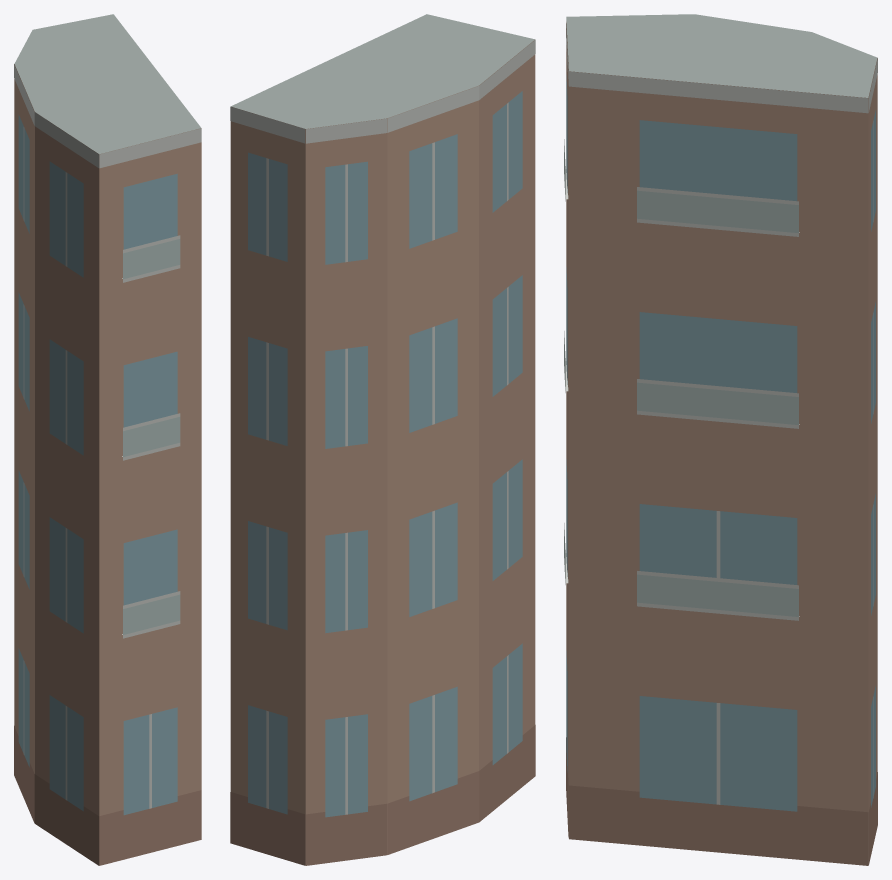
Rendered from survey-upis-32644543.glb.
3 views of the same model, side by side, from view 1: azimuth 30°, elevation 25°; view 2: azimuth 150°, elevation 25°; view 3: azimuth 270°, elevation 25° (orthographic). The views are drawn at different scales.
Parts seen in each view (by area): view 1: survey-upis-32644543.tmp; view 2: survey-upis-32644543.tmp; view 3: survey-upis-32644543.tmp.
Boxes of the visible parts, bbox=[...] form: survey-upis-32644543.tmp: bbox=[14, 14, 201, 865]; survey-upis-32644543.tmp: bbox=[230, 14, 535, 865]; survey-upis-32644543.tmp: bbox=[564, 14, 877, 865].
Bounding box in the file's own units: 2.87 × 12.2 × 4.52.
